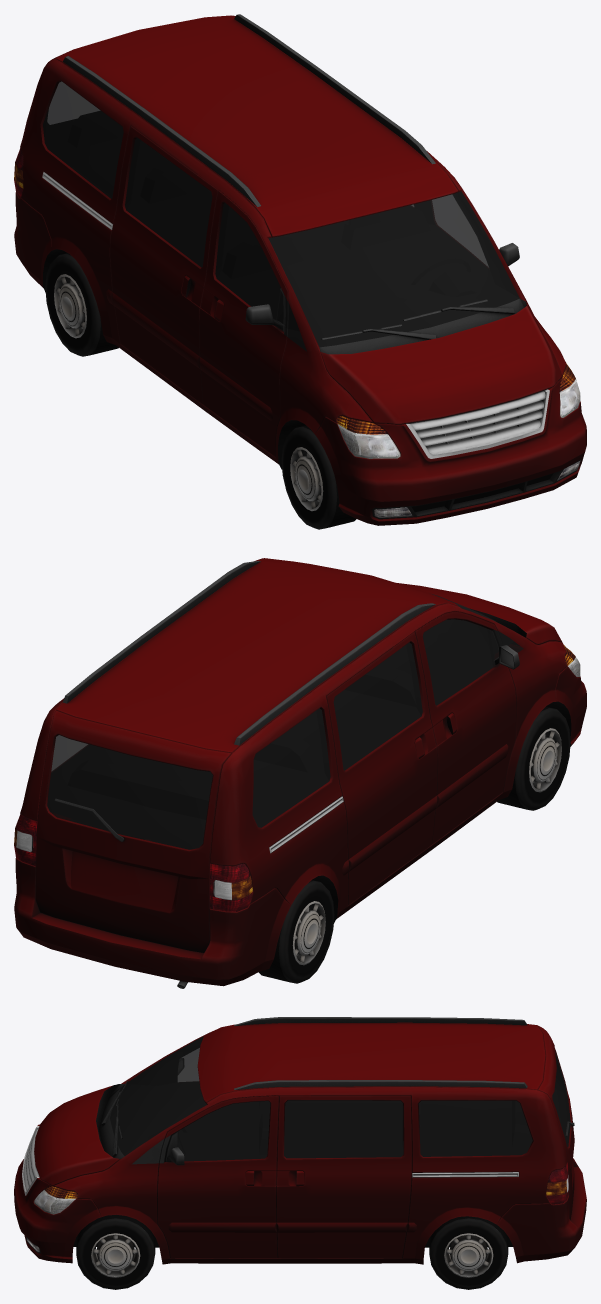
Rendered from Minivan.FBX.
The picture shows the model from 3 angles, top to bottom: view 1: azimuth 30°, elevation 25°; view 2: azimuth 150°, elevation 25°; view 3: azimuth 270°, elevation 25°; orthographic projection. The views are drawn at different scales.
Visible parts, largest first — view 1: minivan body, Wheel_D002, Wheel_D003; view 2: minivan body, Wheel_D003, Wheel_D002; view 3: minivan body, Wheel_D, Wheel_D001.
Part boxes in pixels (box(x1,y1,x2,y2)): minivan body: box(14, 14, 586, 525); Wheel_D002: box(281, 425, 356, 529); Wheel_D003: box(45, 253, 118, 356); minivan body: box(14, 558, 586, 988); Wheel_D003: box(258, 880, 334, 983); Wheel_D002: box(497, 706, 570, 810); minivan body: box(14, 1017, 586, 1264); Wheel_D: box(76, 1215, 155, 1289); Wheel_D001: box(429, 1216, 508, 1289).
Bounding box in the file's own units: 2102 × 1984 × 5186.
4 materials, 3 textured.
